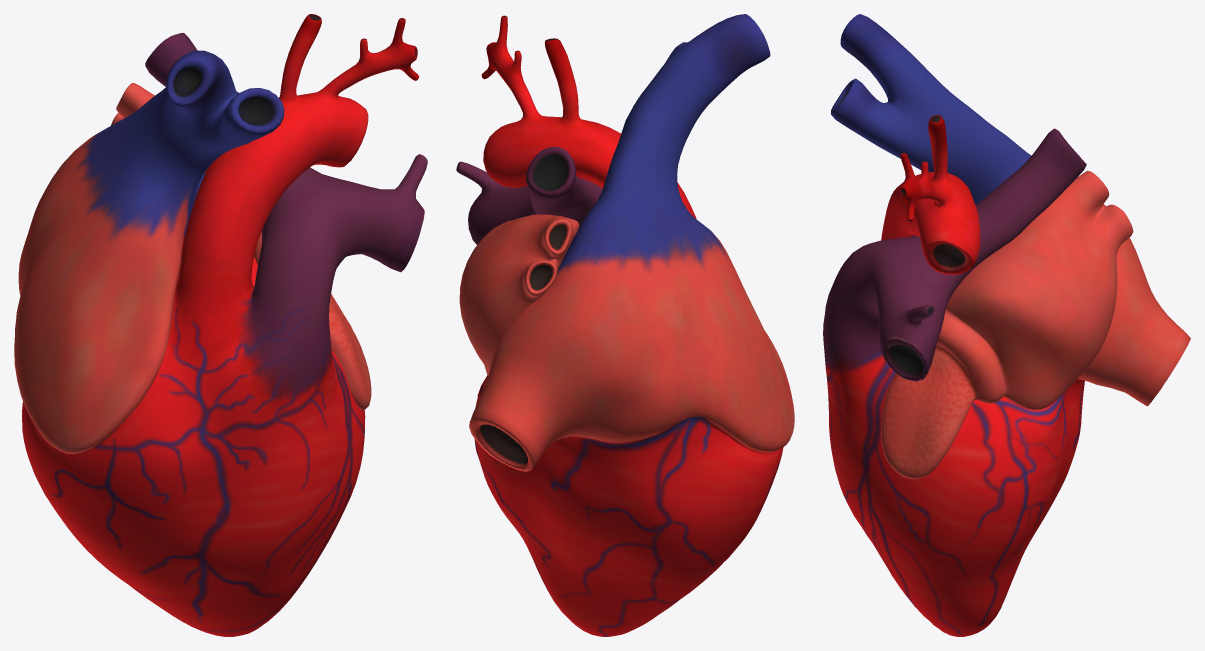
File: heart.gltf
3 views of the same model, side by side, from view 1: azimuth 30°, elevation 25°; view 2: azimuth 150°, elevation 25°; view 3: azimuth 270°, elevation 25° (orthographic). The views are drawn at different scales.
Parts seen in each view (by area): view 1: node_id30; view 2: node_id30; view 3: node_id30.
Part boxes in pixels (x1,y1,x2,y2): node_id30: [14, 14, 427, 636]; node_id30: [456, 14, 794, 636]; node_id30: [823, 14, 1190, 636].
Size of the model in its own units: 4.51 by 7.55 by 4.38.
1 material, 1 textured.
